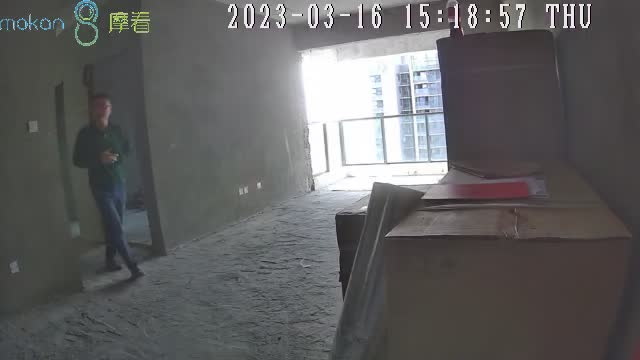people: (73, 94, 145, 279)
window: (305, 56, 449, 176)
